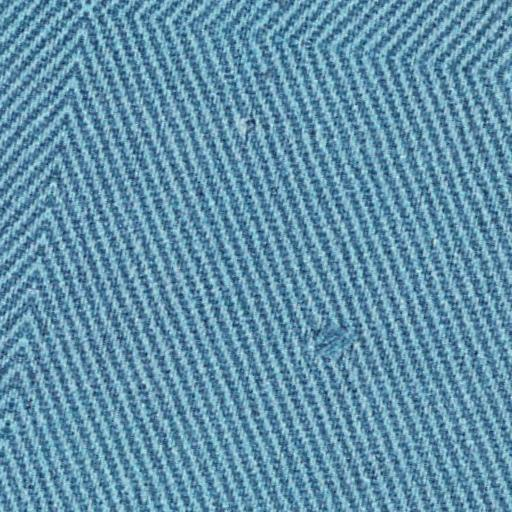knot: (303, 317, 365, 387)
